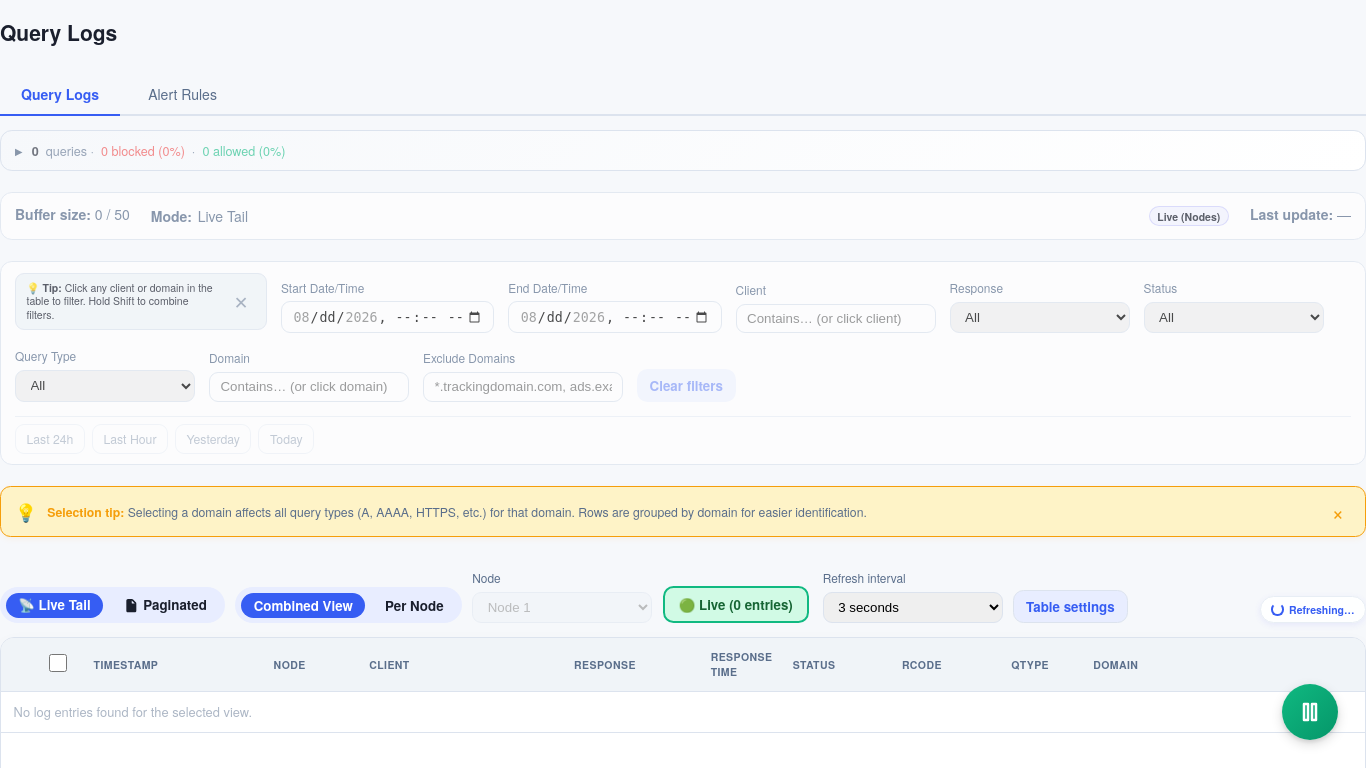
Test case: LogsPage SMTP card › renders SMTP status details from the backend
Click the button "Alert Rules": (183, 95) [127,73,238,116]
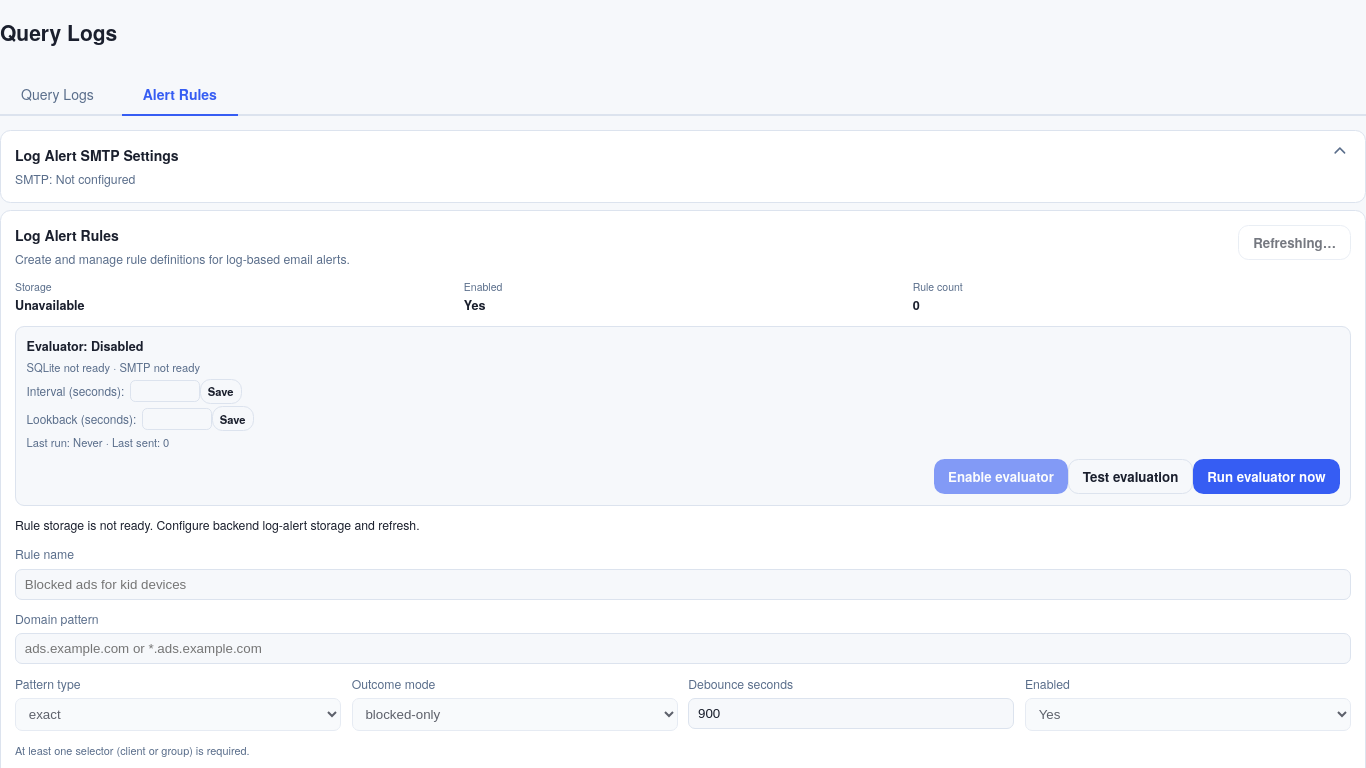
Click the button named "Expand SMTP": (1340, 152) [1328,145,1351,158]
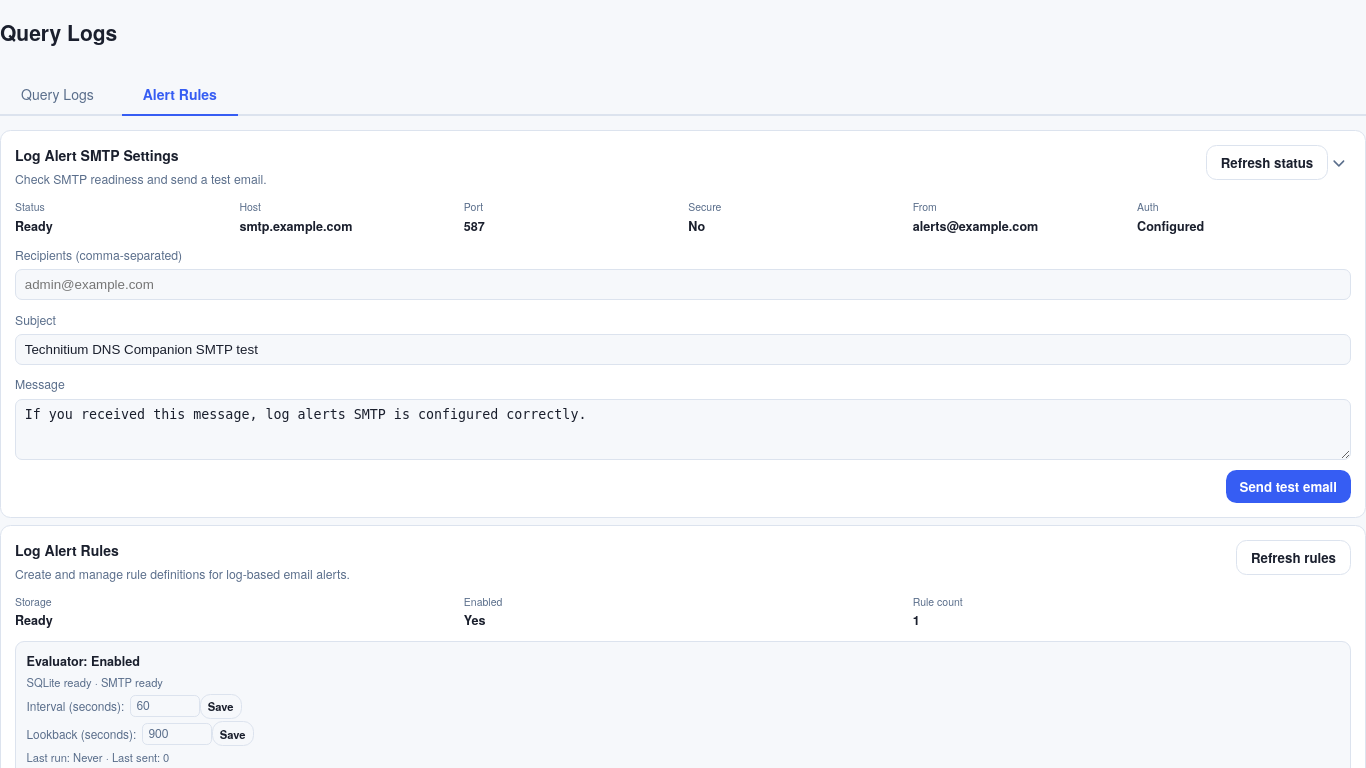
Expected: the heading "Log Alert SMTP Settings" is shown, [15,145,179,165]
Expected: the text "smtp.example.com" is shown, [239,217,352,235]
Expected: the text "alerts@example.com" is shown, [913,217,1038,235]
